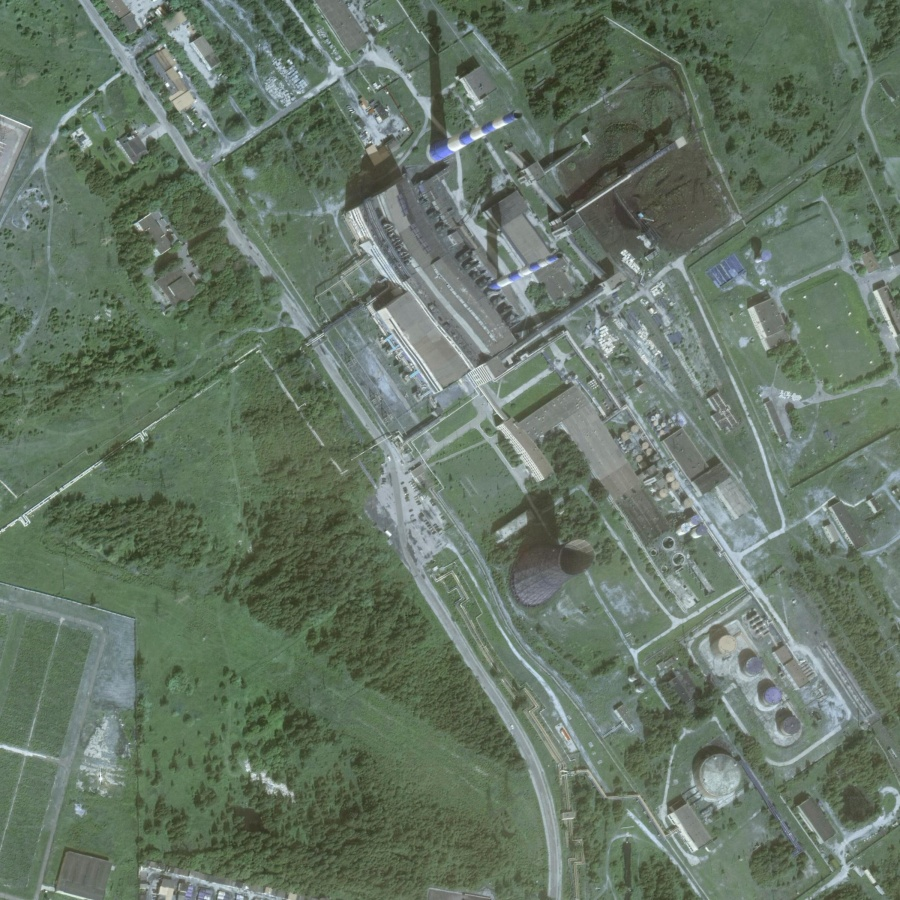PowerPlant: (396, 37, 702, 420), (485, 488, 614, 618), (699, 619, 802, 738)
